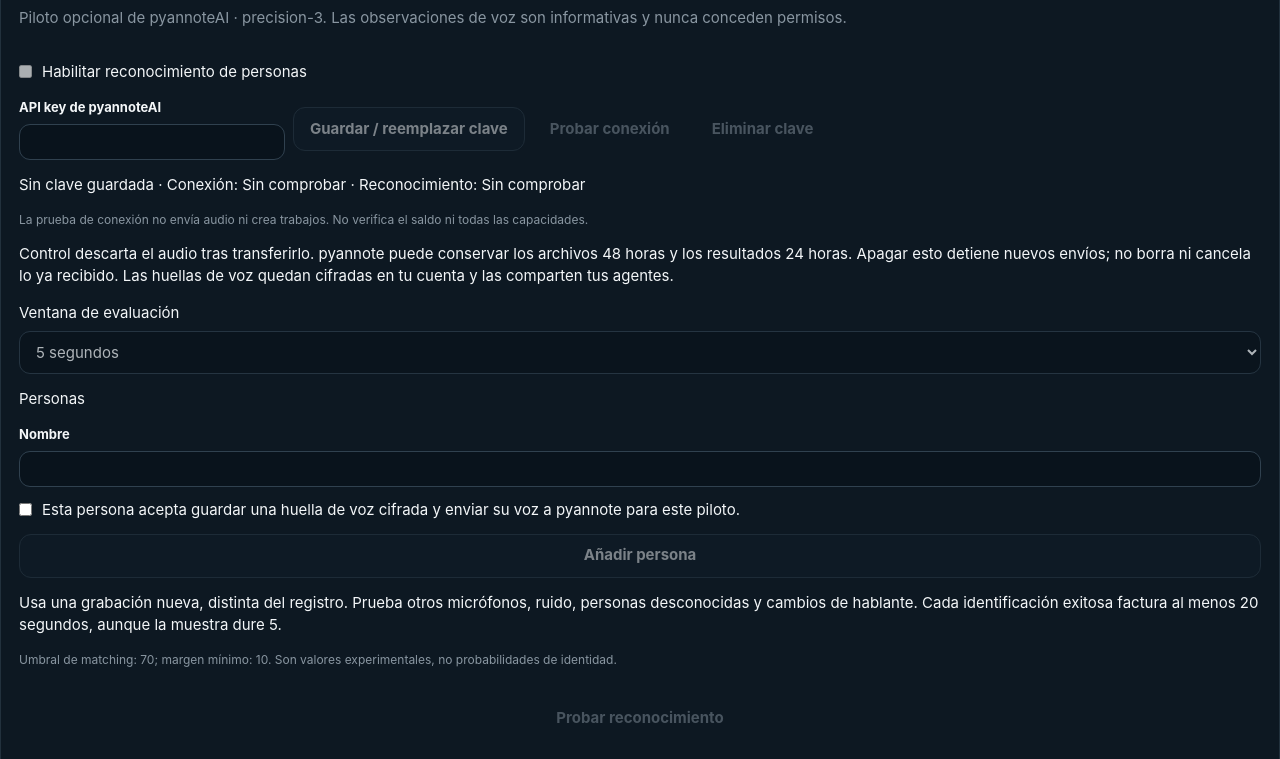
requires name and consent before creating a person; it does not acquire audio automatically
Type "Juan Ramón" into the field labelled "Nombre".
click(640, 469); type("Juan Ramón")  # box [19,451,1261,487]
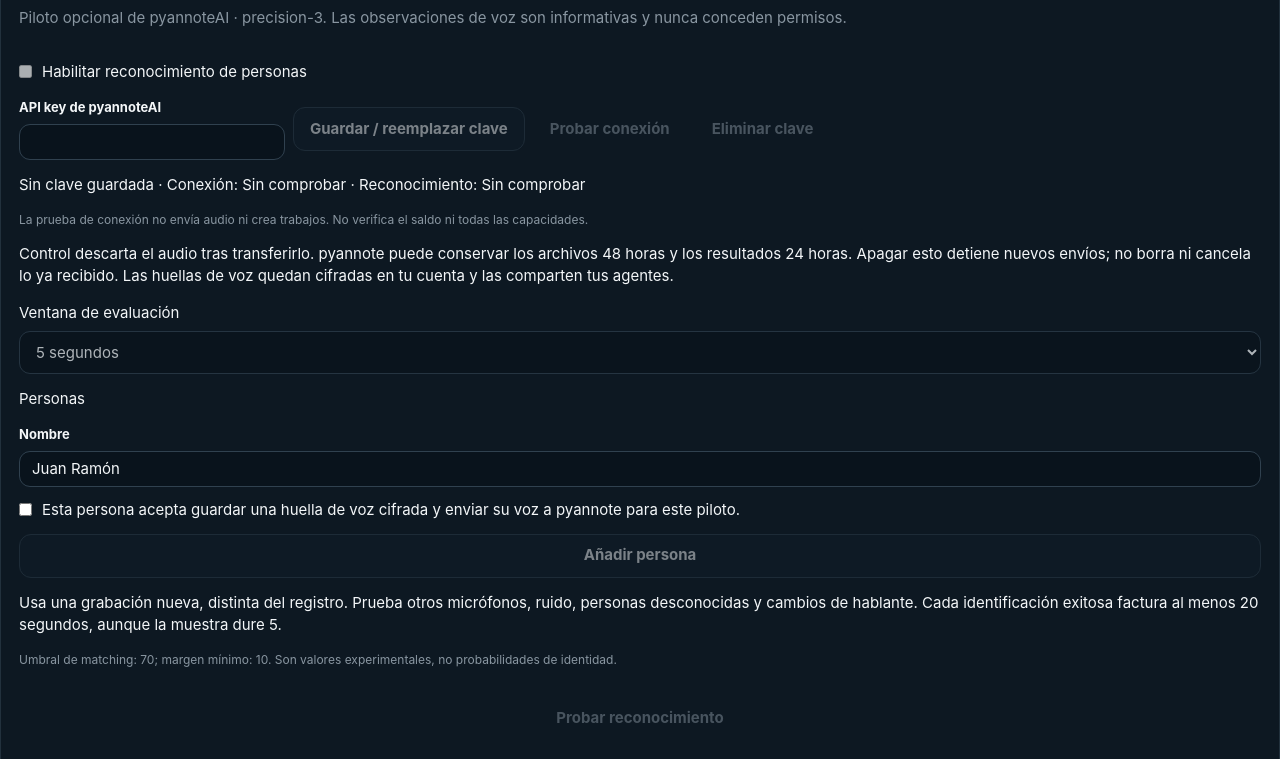
Expected: the button "Añadir persona" is disabled, [19,534,1261,578]
Click the checkbox labelled "Esta persona acepta".
click(26, 510)  # box [19,503,32,516]
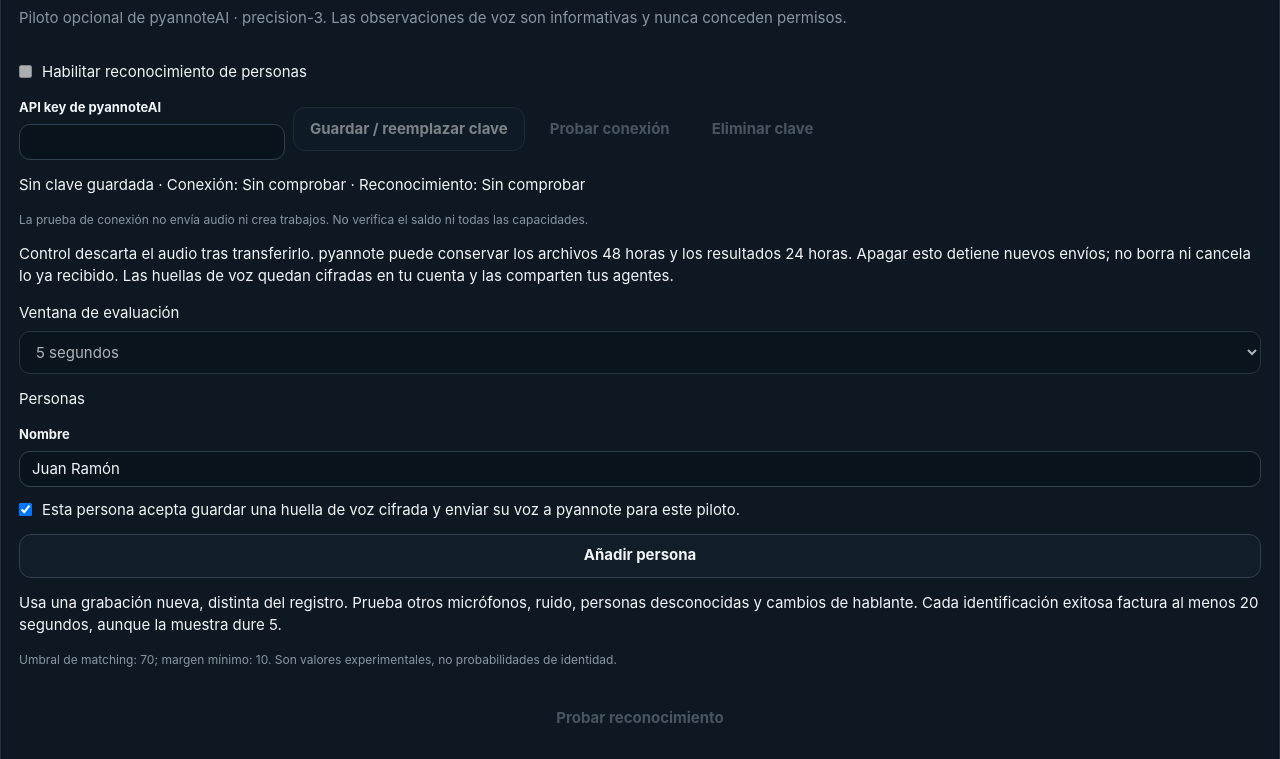
Click the button "Añadir persona".
click(640, 556)  # box [19,534,1261,578]
(page scrolled)
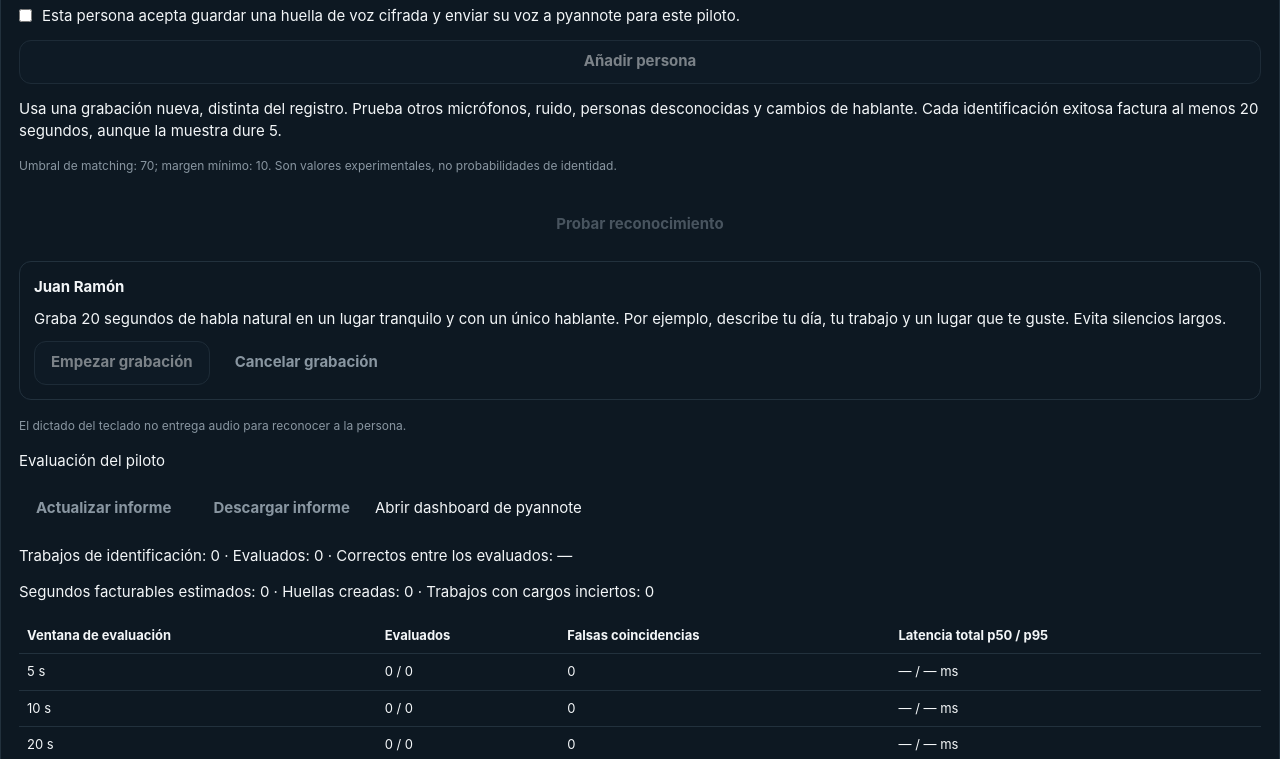
Expected: the text "Juan Ramón" is shown, [34,276,124,296]
Expected: the button "Empezar grabación" is disabled, [34,340,210,384]
